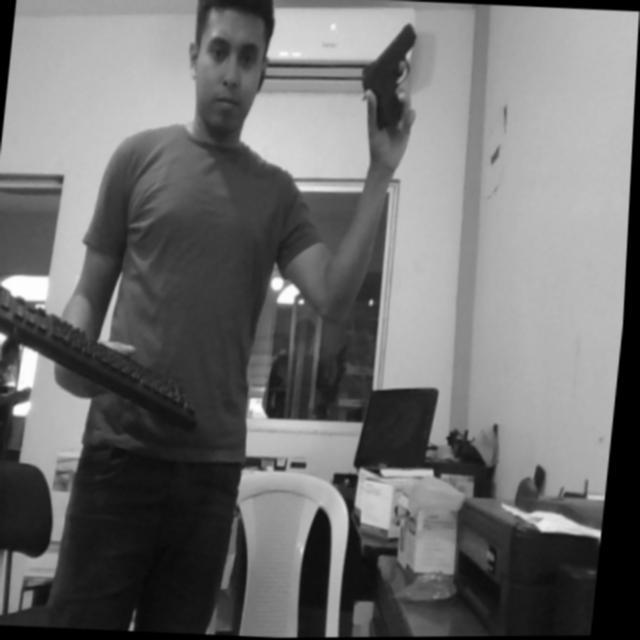weapon: (352, 18, 421, 140)
